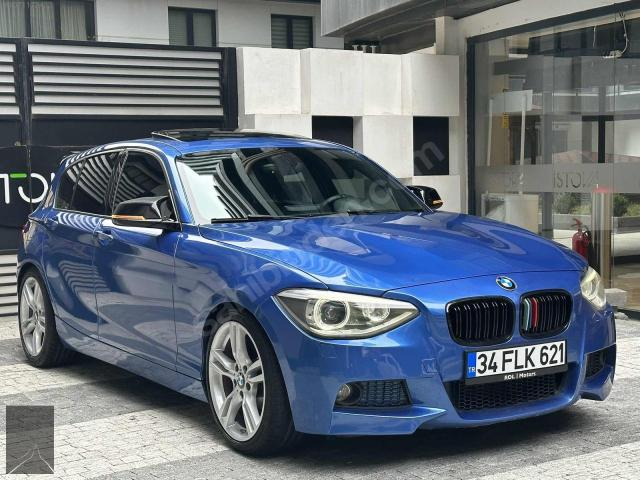plaka: (466, 340, 566, 380)
